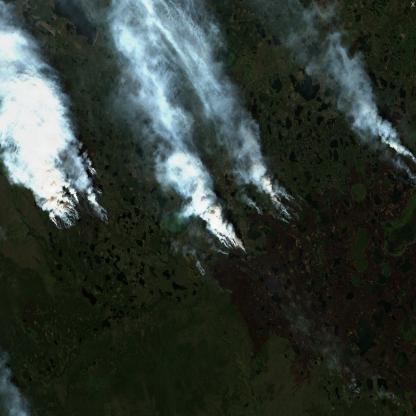fire: (0, 127, 416, 262)
